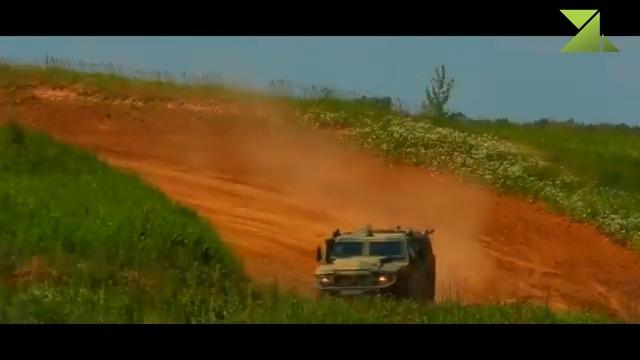MIL_HMMWV: (313, 224, 436, 301)
